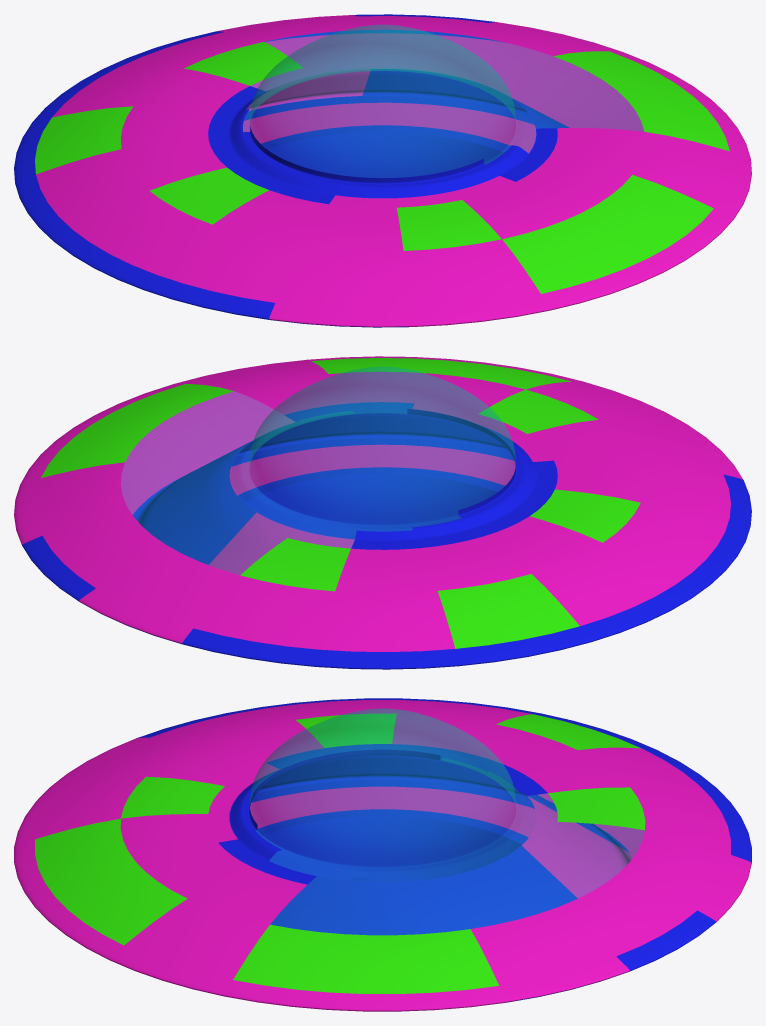
File: UFO.glb
The picture shows the model from 3 angles, top to bottom: view 1: azimuth 30°, elevation 25°; view 2: azimuth 150°, elevation 25°; view 3: azimuth 270°, elevation 25°; orthographic projection.
Parts seen in each view (by area): view 1: Torus.001; view 2: Torus.001; view 3: Torus.001.
Part boxes in pixels (bbox=[...]): Torus.001: bbox=[14, 14, 751, 327]; Torus.001: bbox=[14, 356, 751, 669]; Torus.001: bbox=[14, 698, 751, 1011].
Size of the model in its own units: 3.4 by 1.22 by 3.4.
